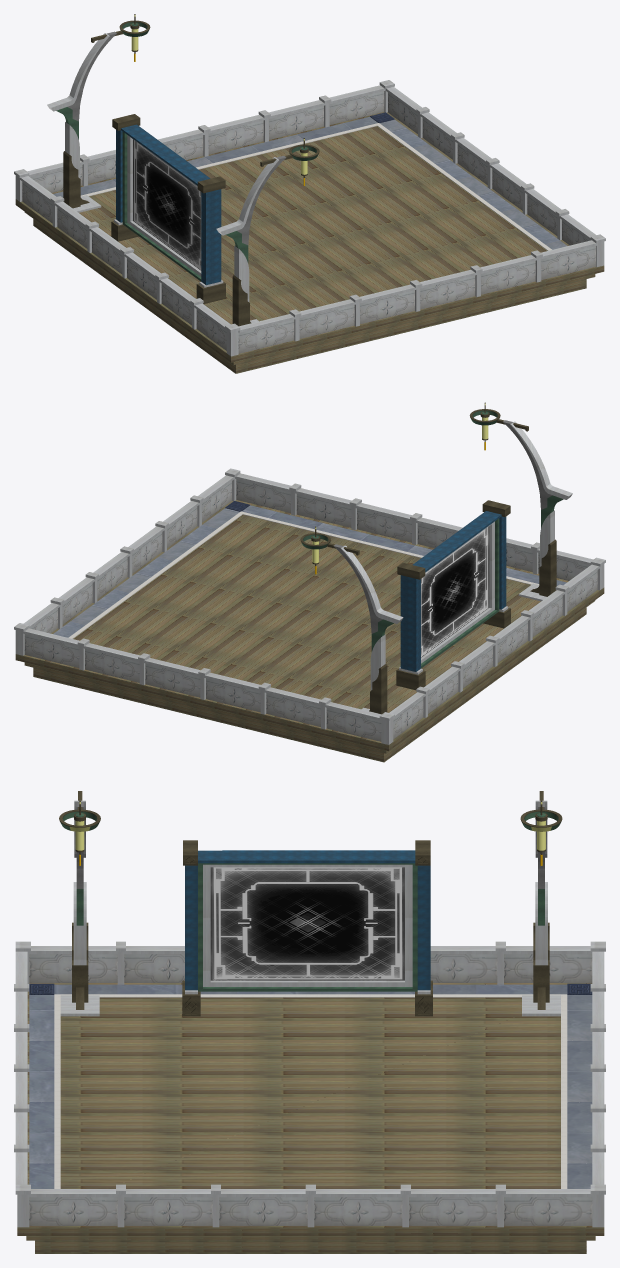
File: 仙舟竞技场.fbx
The picture shows the model from 3 angles, top to bottom: view 1: azimuth 30°, elevation 25°; view 2: azimuth 150°, elevation 25°; view 3: azimuth 270°, elevation 25°; orthographic projection. The views are drawn at different scales.
Parts seen in each view (by area): view 1: Model; view 2: Model; view 3: Model.
Boxes of the visible parts, x1,y1,x2,y2 form: Model: (14, 14, 605, 373); Model: (14, 402, 605, 762); Model: (14, 791, 605, 1253).
Size of the model in its own units: 33.76 by 17.44 by 33.86.
